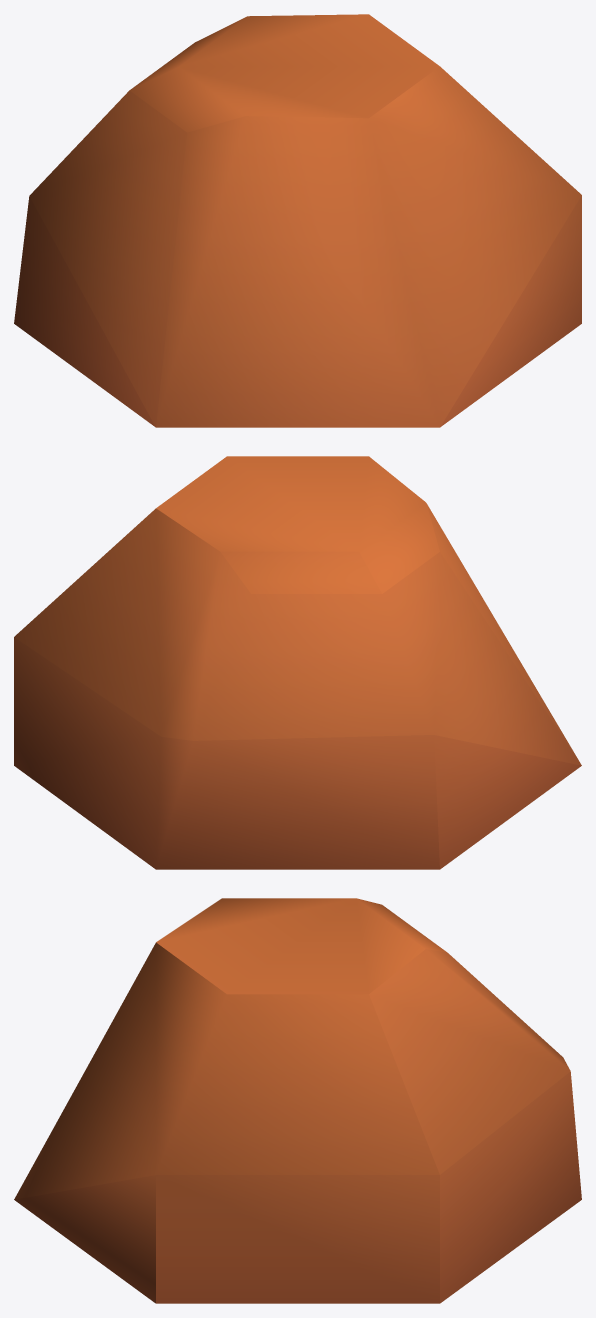
File: rock_B.glb
3 views of the same model, one above another, from view 1: azimuth 30°, elevation 25°; view 2: azimuth 150°, elevation 25°; view 3: azimuth 270°, elevation 25° (orthographic).
Visible parts, largest first — view 1: rock_B; view 2: rock_B; view 3: rock_B.
Part boxes in pixels (x1,y1,x2,y2): rock_B: (14, 14, 581, 427); rock_B: (14, 456, 581, 869); rock_B: (14, 898, 581, 1303).
Size of the model in its own units: 0.6953 by 0.4015 by 0.8028.
Materials: 1 (1 with a texture image).
